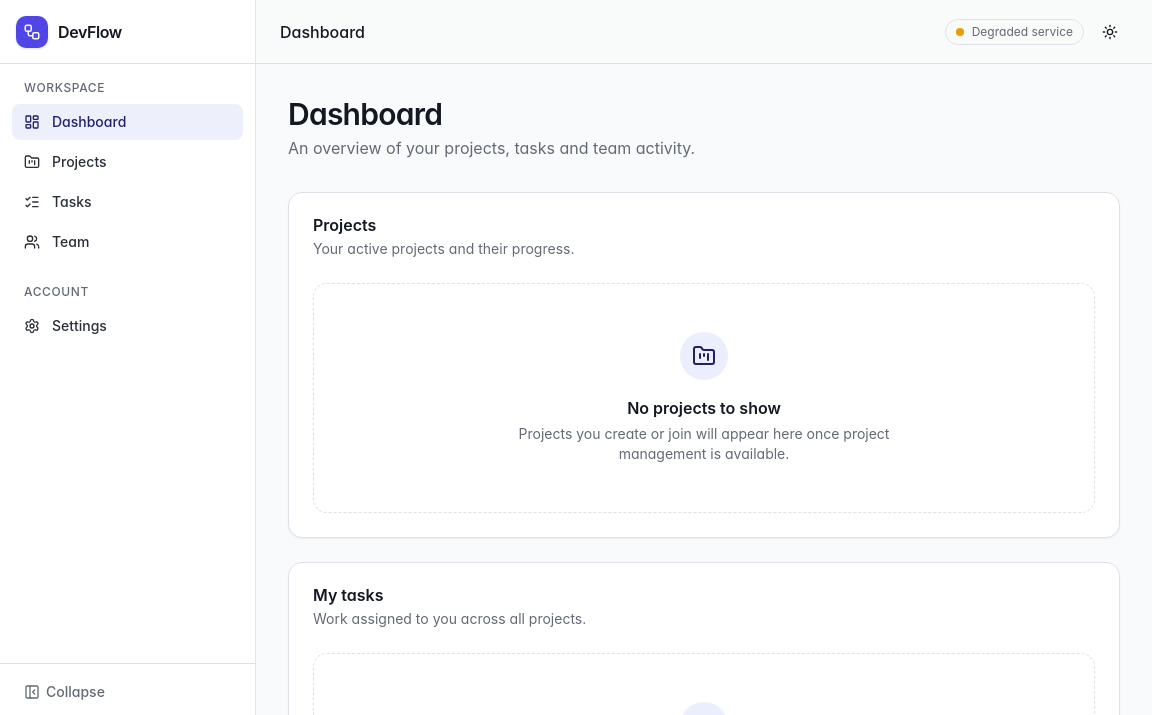
application routes › navigates between sections from the sidebar
expect the heading "Dashboard" is shown: met, box left=288, top=96, right=442, bottom=132
Click the link "Projects" at (65, 162), box left=24, top=153, right=107, bottom=170
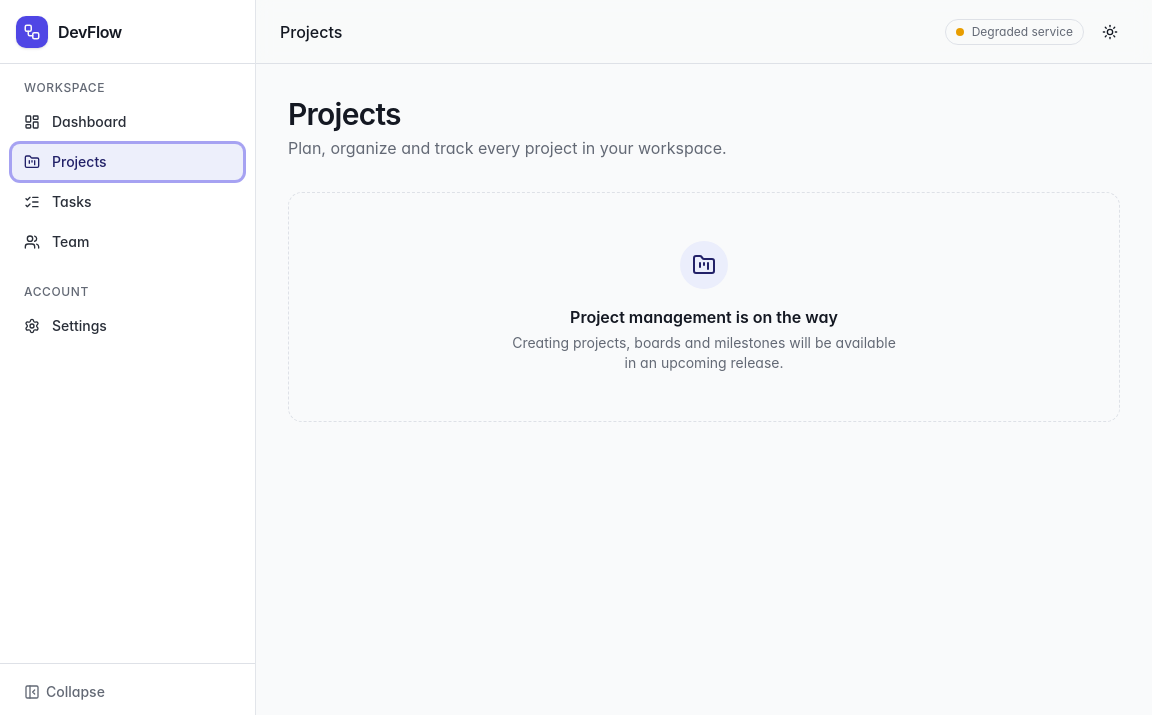
expect the heading "Projects" is shown: met, box left=288, top=96, right=401, bottom=132
